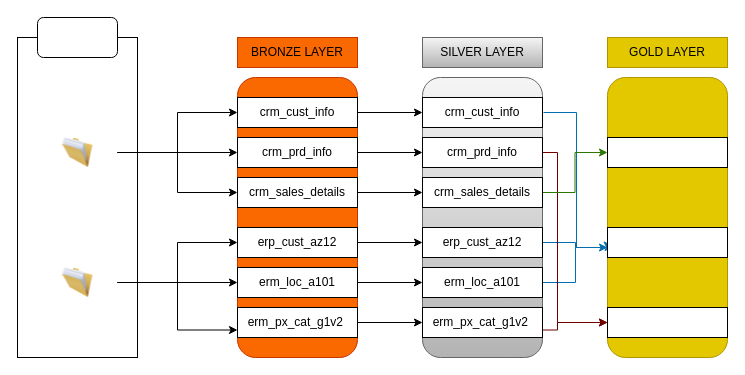
Some shapes in this 745 by 375 pixel diagram are drawn without their labels. Each missing label, with the centre of its shape:
"CRM" goes at (77,152).
"dim_customers" goes at (667,242).
"dim_products" goes at (667,322).
"ERP" goes at (77,282).
"fact_sales" goes at (667,152).
"SOURCE" goes at (77,37).
